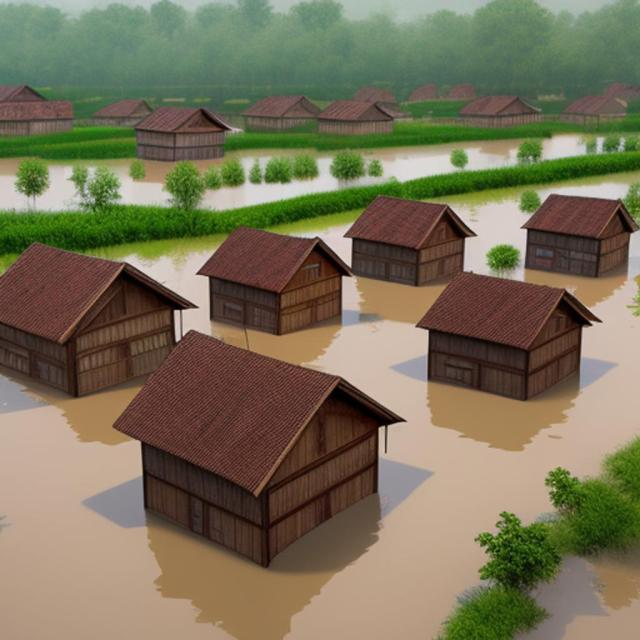flood: (0, 233, 640, 640), (434, 171, 640, 273), (520, 546, 640, 640), (349, 139, 522, 185), (202, 152, 341, 209), (36, 159, 174, 210), (266, 209, 363, 265), (225, 149, 311, 173), (0, 159, 26, 210), (544, 134, 585, 159)
house: (111, 324, 409, 572), (0, 236, 201, 410), (413, 262, 606, 406), (196, 224, 360, 344), (348, 194, 478, 286), (522, 186, 640, 278), (134, 102, 233, 164), (0, 80, 77, 139), (243, 93, 324, 134), (320, 96, 396, 138), (459, 92, 543, 126), (91, 96, 156, 128), (564, 93, 628, 125)
